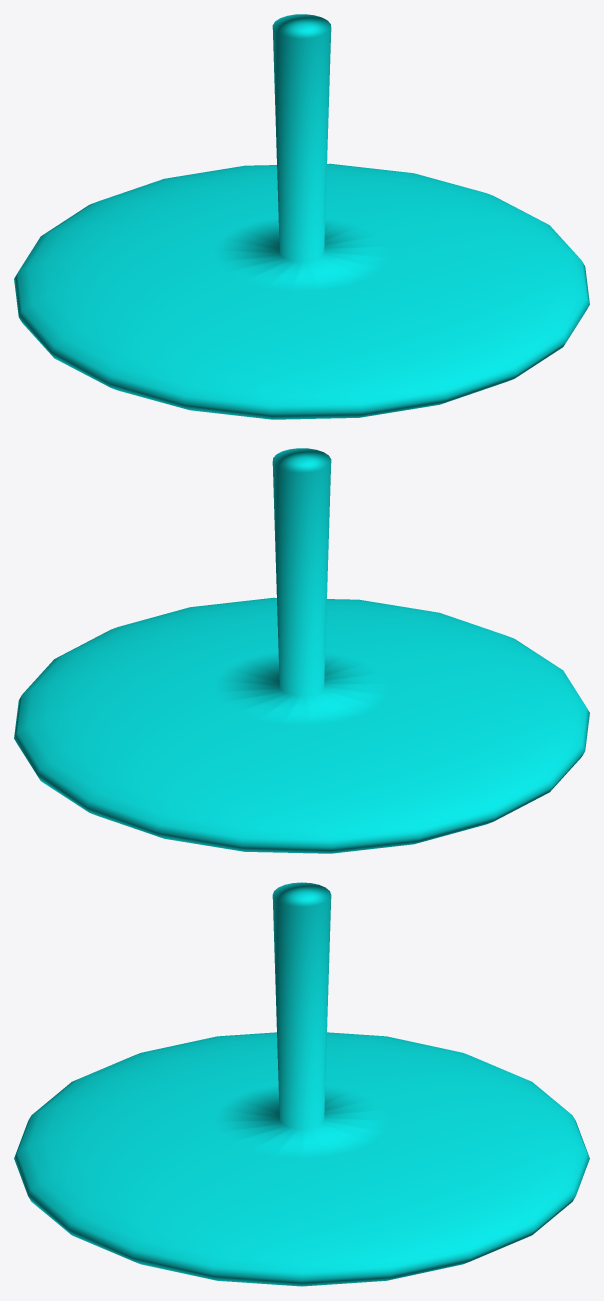
Rendered from Lamp_msh.fbx.
The picture shows the model from 3 angles, top to bottom: view 1: azimuth 30°, elevation 25°; view 2: azimuth 150°, elevation 25°; view 3: azimuth 270°, elevation 25°; orthographic projection.
Parts seen in each view (by area): view 1: Lamp_msh; view 2: Lamp_msh; view 3: Lamp_msh.
Part boxes in pixels (x1,y1,x2,y2): Lamp_msh: [14, 14, 589, 419]; Lamp_msh: [14, 448, 589, 853]; Lamp_msh: [14, 882, 589, 1286].
Bounding box in the file's own units: 200 × 116 × 200.
